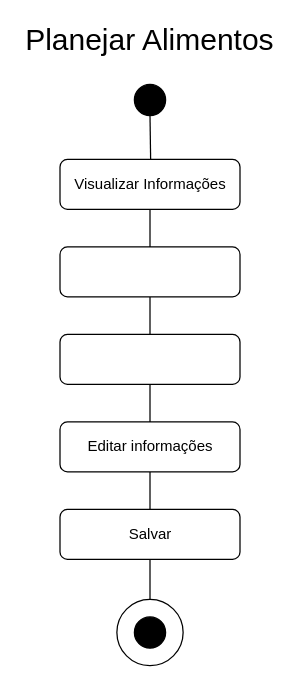
The diagram is 299 pixels wide and 688 high, and some of its shapes have lost their labels. The centre of each missing label's shape, as x and y in pixels:
Sugerir plano de adubagem: [149,358]
Sugerir plano de agua: [149,271]
